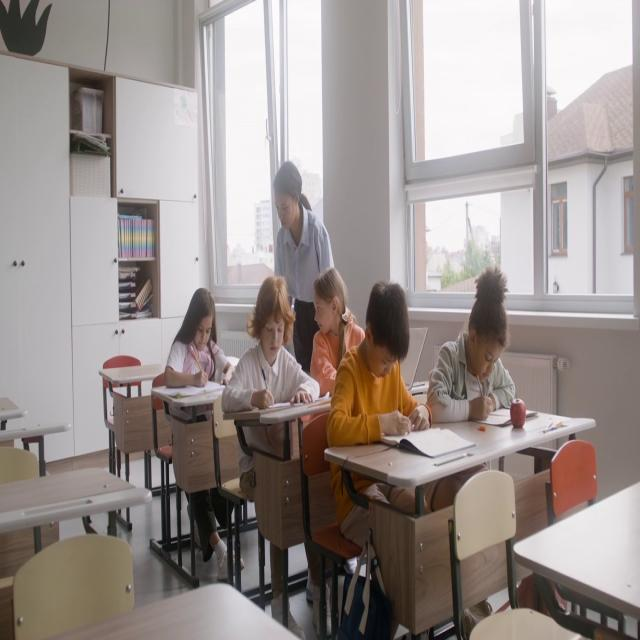reading: (312, 269, 364, 407)
writing: (327, 278, 449, 640), (165, 290, 240, 574), (223, 275, 320, 491), (427, 267, 515, 424)
